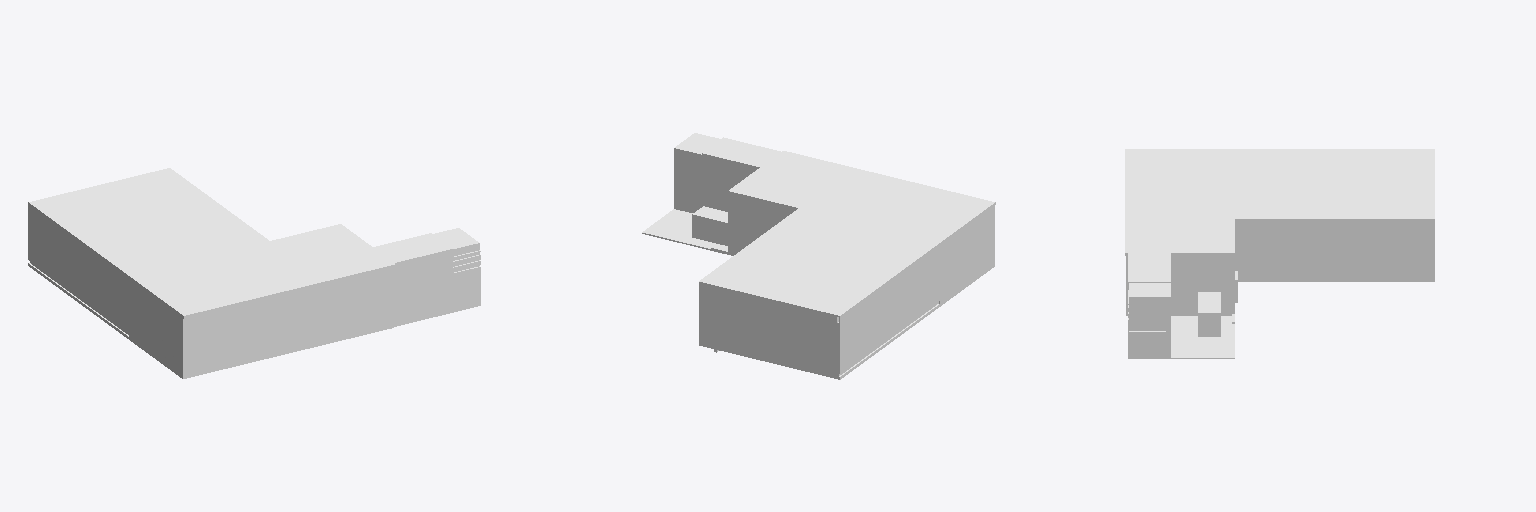
File: salas.obj
3 renders of one model, left to right at view 1: azimuth 30°, elevation 25°; view 2: azimuth 150°, elevation 25°; view 3: azimuth 270°, elevation 25°, orthographic.
Parts seen in each view (by area): view 1: object 1; view 2: object 1; view 3: object 1.
Part boxes in pixels (bbox=[...]): object 1: bbox=[28, 168, 480, 378]; object 1: bbox=[642, 133, 995, 379]; object 1: bbox=[1125, 149, 1434, 358].
Size of the model in its own units: 21.6 by 4.6 by 19.4.